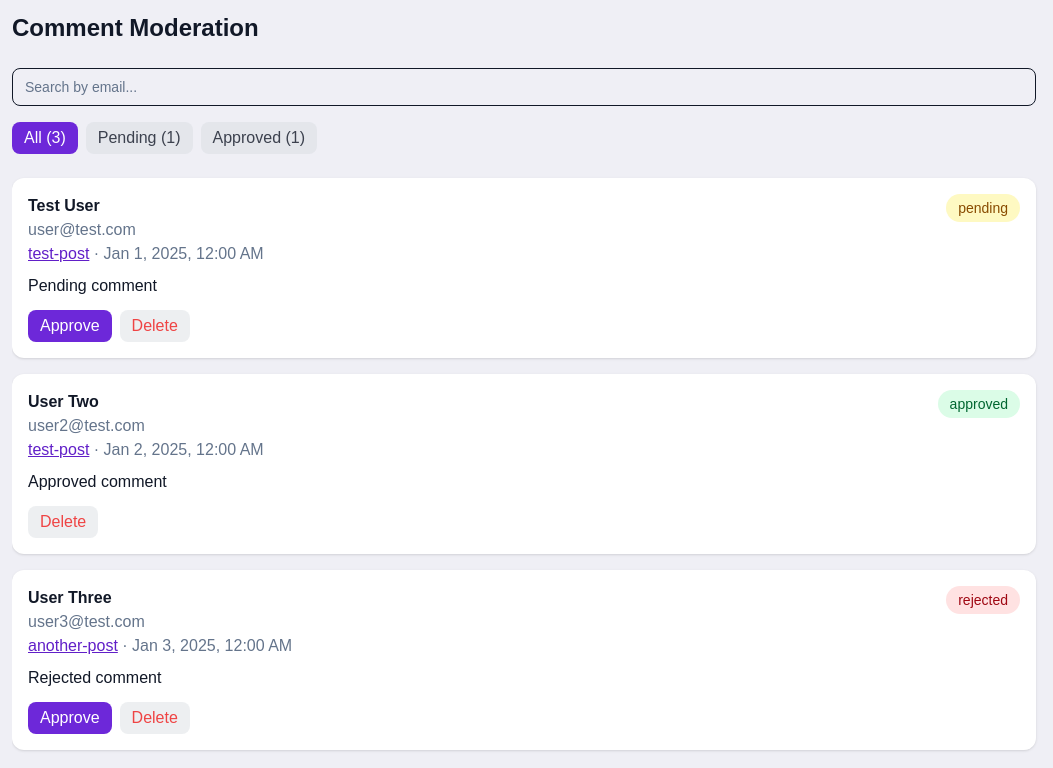
Test: ModerationPanel › filters comments by status when tab is clicked
Click the button "Pending (1)" at [139, 138], box [86,122,192,154]
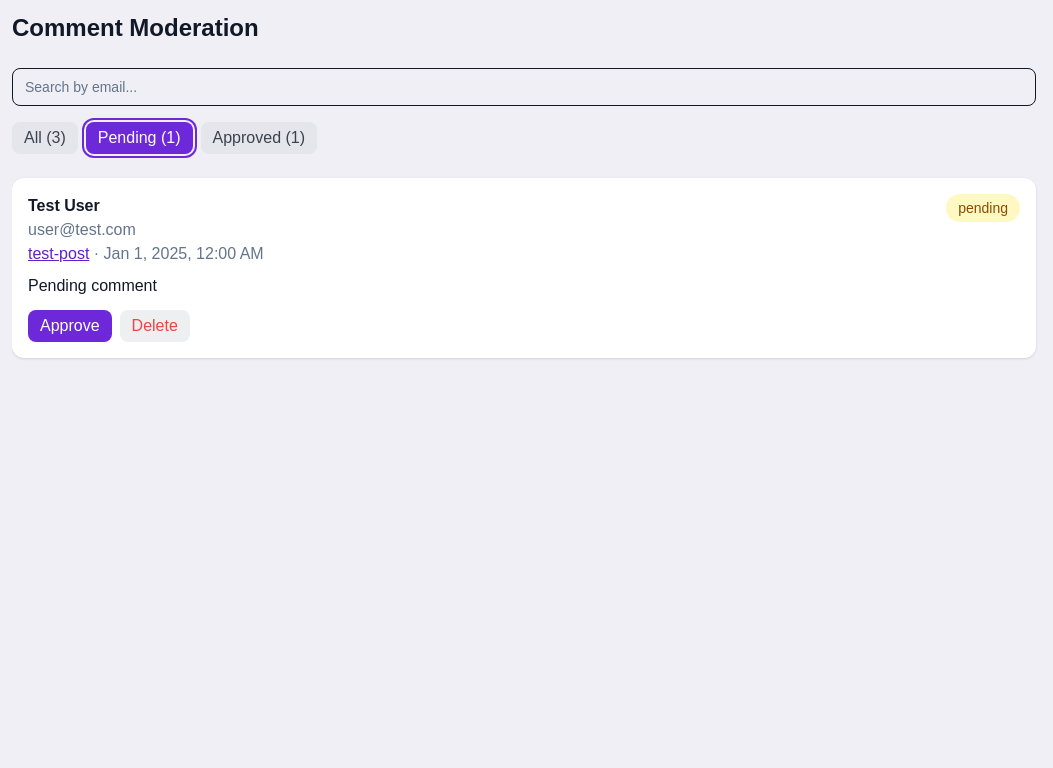
Expected: the text "Pending comment" is shown, [28,277,157,294]
Now the text "Approved comment" is gone
Now the text "Rejected comment" is gone
